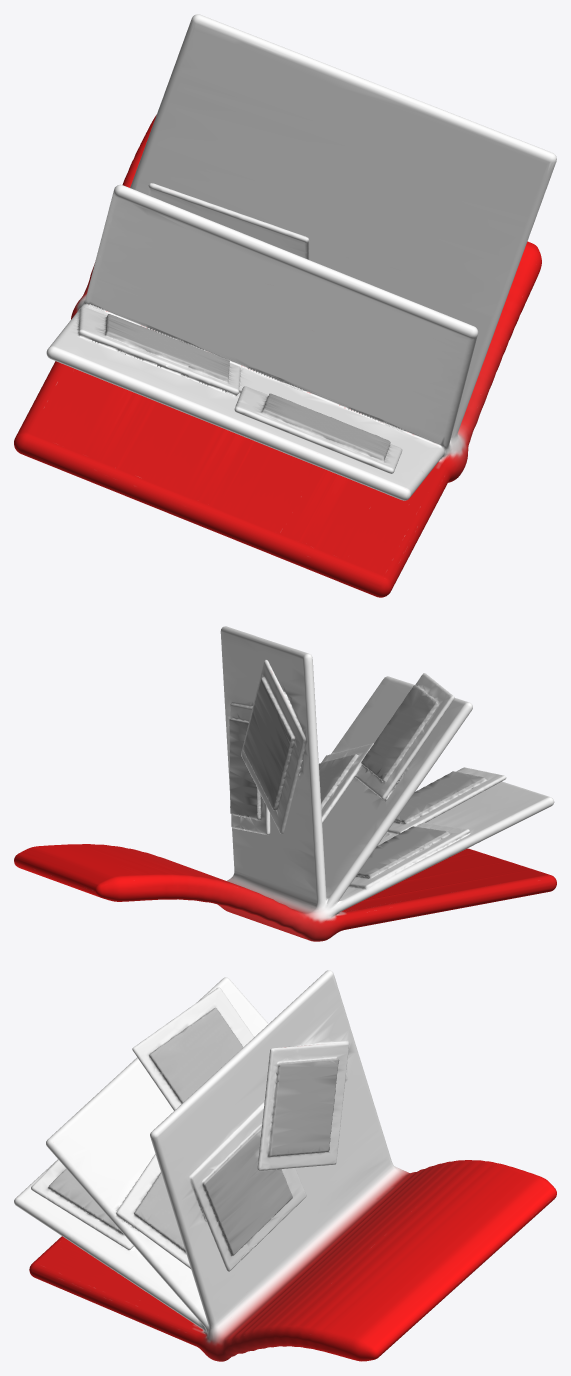
The model's file is album.gltf.
3 renders of one model, top to bottom at view 1: azimuth 30°, elevation 25°; view 2: azimuth 150°, elevation 25°; view 3: azimuth 270°, elevation 25°, orthographic. The views are drawn at different scales.
Parts seen in each view (by area): view 1: Area (1); view 2: Area (1); view 3: Area (1).
Part boxes in pixels (bbox=[...]): Area (1): bbox=[14, 14, 556, 597]; Area (1): bbox=[14, 626, 556, 941]; Area (1): bbox=[14, 970, 556, 1361].
Size of the model in its own units: 216 by 148 by 222.
Materials: 1 (1 with a texture image).
